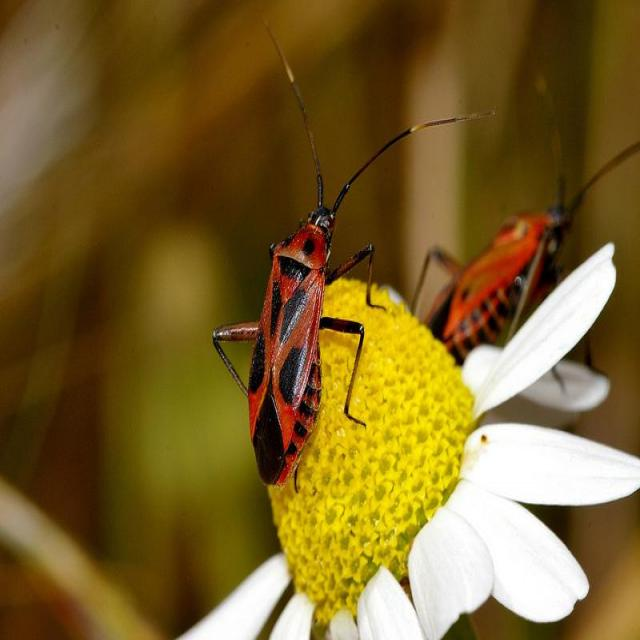Miridae-Adult-: (209, 14, 436, 496)
